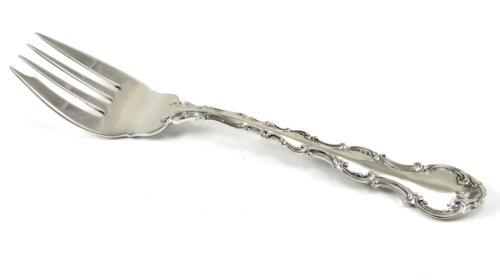Fork: (9, 32, 487, 221)
